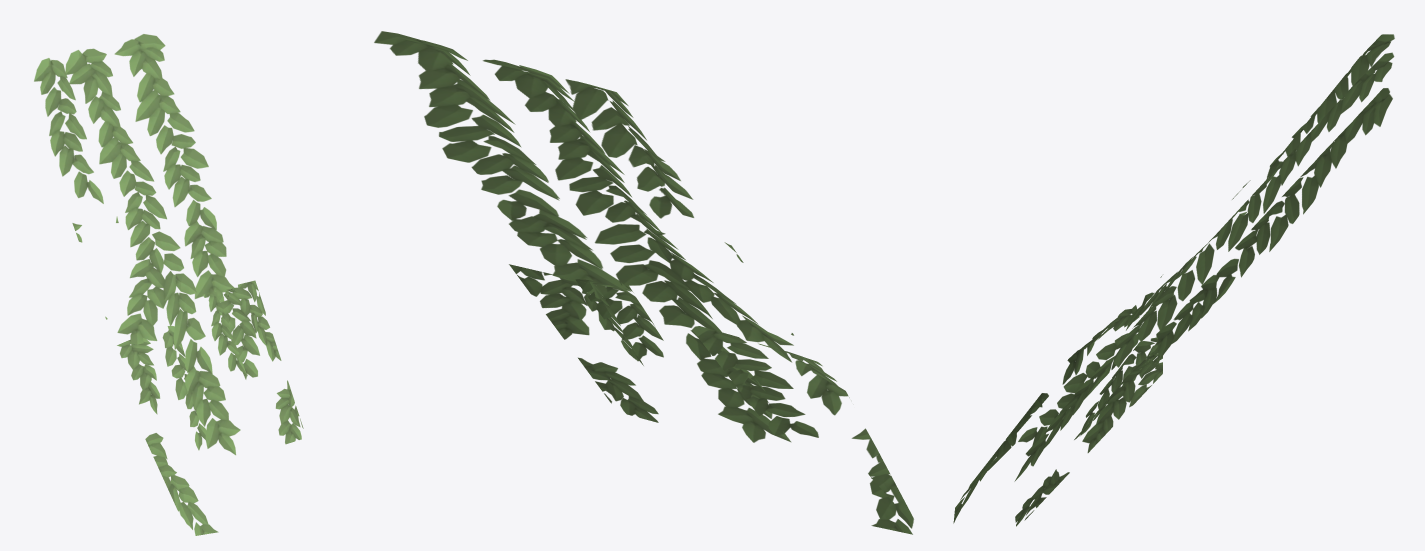
Rendered from elven_SM_Env_Vines_Preset_Roof_Straight_05.gltf.
3 views of the same model, side by side, from view 1: azimuth 30°, elevation 25°; view 2: azimuth 150°, elevation 25°; view 3: azimuth 270°, elevation 25° (orthographic). The views are drawn at different scales.
Parts seen in each view (by area): view 1: SM_Env_Vines_Preset_Roof_Straight_05; view 2: SM_Env_Vines_Preset_Roof_Straight_05; view 3: SM_Env_Vines_Preset_Roof_Straight_05.
Boxes of the visible parts, box(x1,y1,x2,y2) form: SM_Env_Vines_Preset_Roof_Straight_05: box(34, 34, 303, 535); SM_Env_Vines_Preset_Roof_Straight_05: box(374, 31, 913, 534); SM_Env_Vines_Preset_Roof_Straight_05: box(953, 34, 1394, 526).
Bounding box in the file's own units: 1.11 × 2.42 × 2.03.
Materials: 2 (2 with a texture image).
